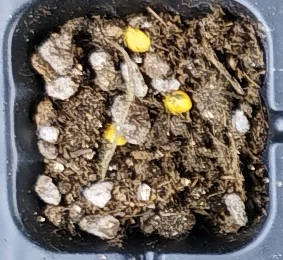pepper seed: (66, 31, 259, 147), (39, 47, 168, 195), (48, 0, 200, 51)
